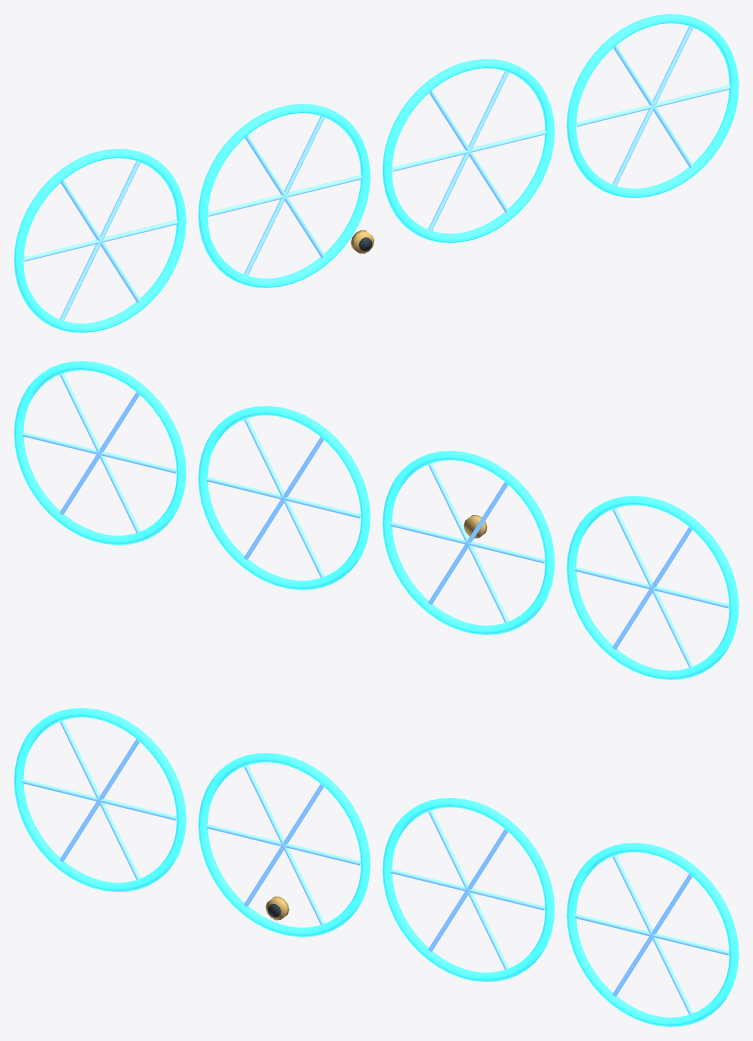
Rendered from 83_L88_AtmosphericDigitalFlowHologram.fbx.
3 views of the same model, one above another, from view 1: azimuth 30°, elevation 25°; view 2: azimuth 150°, elevation 25°; view 3: azimuth 330°, elevation 25° (orthographic).
Visible parts, largest first — view 1: L87_AtmosphericDigitalFlowHol_Part_0000, L87_AtmosphericDigitalFlowHol_Part_0001, L87_AtmosphericDigitalFlowHol_Part_0002; view 2: L87_AtmosphericDigitalFlowHol_Part_0000, L87_AtmosphericDigitalFlowHol_Part_0001, L87_AtmosphericDigitalFlowHol_Part_0002; view 3: L87_AtmosphericDigitalFlowHol_Part_0000, L87_AtmosphericDigitalFlowHol_Part_0001, L87_AtmosphericDigitalFlowHol_Part_0002.
Part boxes in pixels (x1,y1,x2,y2): L87_AtmosphericDigitalFlowHol_Part_0000: (14,14,738,332); L87_AtmosphericDigitalFlowHol_Part_0001: (23,26,730,320); L87_AtmosphericDigitalFlowHol_Part_0002: (576,45,693,185); L87_AtmosphericDigitalFlowHol_Part_0000: (14,361,738,679); L87_AtmosphericDigitalFlowHol_Part_0001: (22,373,729,667); L87_AtmosphericDigitalFlowHol_Part_0002: (60,392,176,532); L87_AtmosphericDigitalFlowHol_Part_0000: (14,708,738,1026); L87_AtmosphericDigitalFlowHol_Part_0001: (22,720,729,969); L87_AtmosphericDigitalFlowHol_Part_0002: (575,855,692,1014).
Size of the model in its own units: 4.72 by 1.11 by 0.55.
